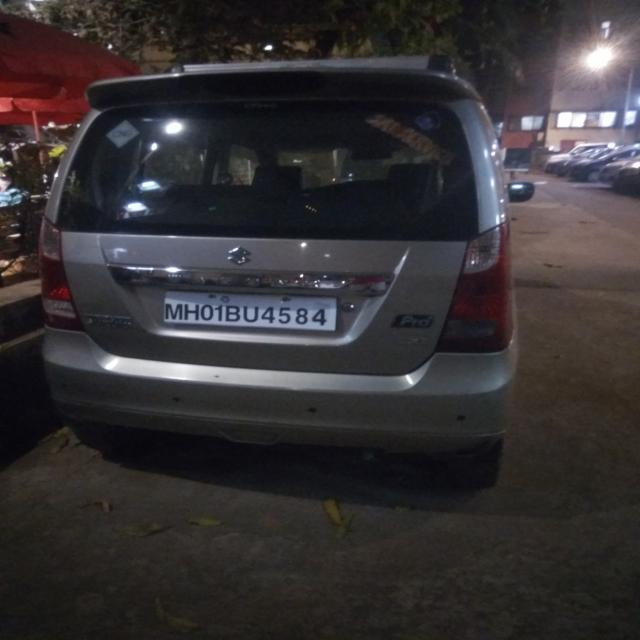Number-Plate: (167, 286, 332, 332)
